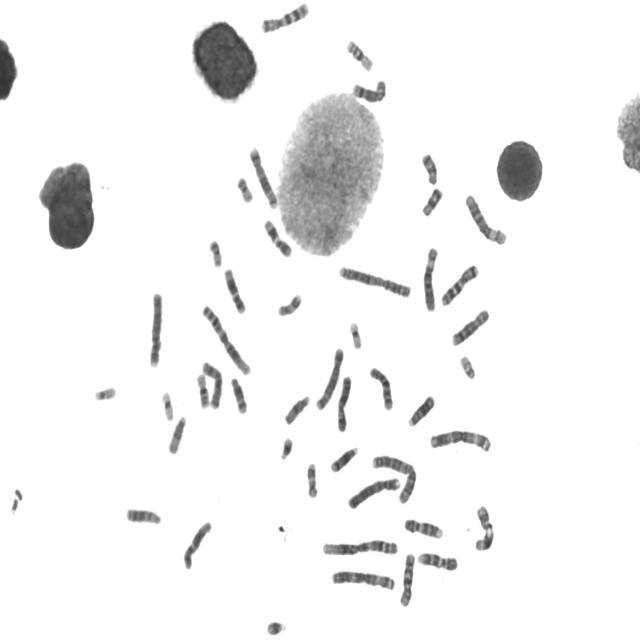A1: (200, 302, 252, 377), (320, 536, 400, 558)
A2: (336, 262, 413, 298), (369, 451, 418, 505)
A3: (427, 426, 493, 454), (329, 567, 396, 592)
B4: (345, 474, 402, 511), (146, 289, 164, 369)
B5: (247, 144, 279, 210), (314, 344, 345, 412)
C10: (367, 363, 394, 412), (397, 550, 417, 609)
C11: (262, 217, 293, 260), (473, 502, 495, 552)
C12: (181, 518, 213, 572), (222, 266, 247, 316)
C6: (463, 191, 508, 247), (420, 244, 440, 314)
C7: (438, 262, 481, 308), (258, 0, 310, 34)
C8: (449, 306, 491, 348), (350, 76, 387, 104)
C9: (402, 515, 444, 541), (415, 548, 459, 572)
D13: (406, 392, 436, 428), (124, 504, 162, 527)
D14: (328, 444, 359, 474), (228, 374, 248, 416)
D15: (282, 392, 312, 427), (166, 413, 187, 456)
E16: (344, 36, 375, 72), (194, 371, 211, 410)
E17: (275, 291, 303, 318), (305, 459, 319, 500)
E18: (420, 185, 444, 218), (418, 150, 438, 186)
F19: (159, 388, 175, 423), (347, 318, 363, 351)
F20: (235, 174, 254, 204), (207, 237, 223, 269)
G21: (264, 617, 288, 636), (278, 434, 294, 462)
G22: (91, 382, 118, 402), (458, 352, 477, 380)
X: (200, 358, 223, 411), (335, 373, 353, 433)
